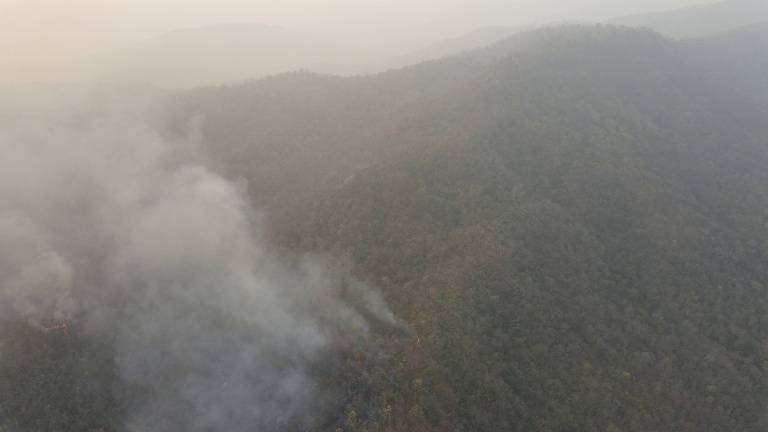fire: (35, 309, 80, 348), (410, 330, 422, 361)
smoke: (1, 60, 424, 432)
